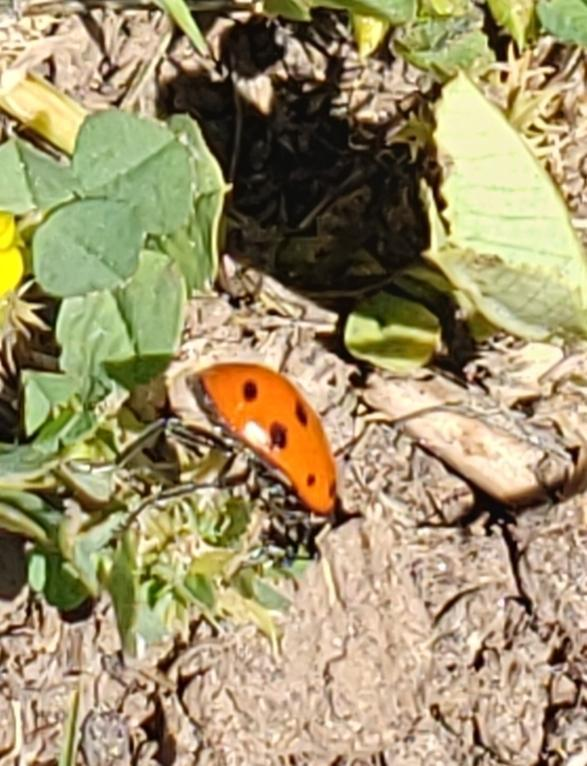ladybug: (111, 359, 345, 569)
